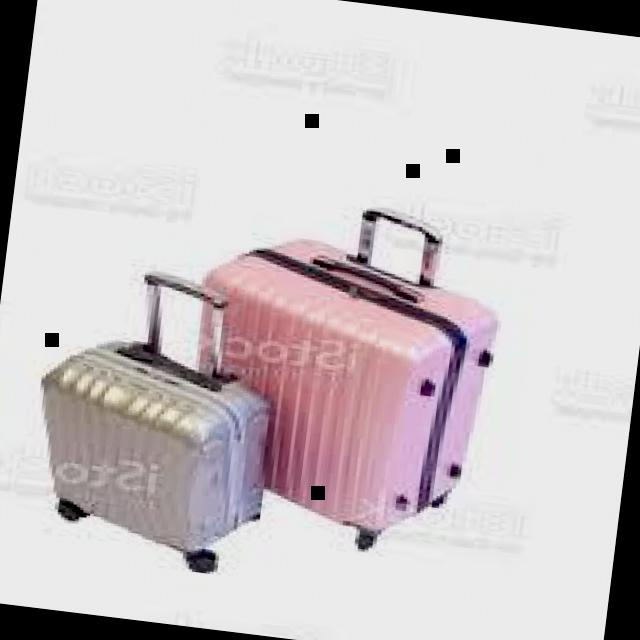luggage: (162, 222, 508, 558), (12, 322, 294, 568)
